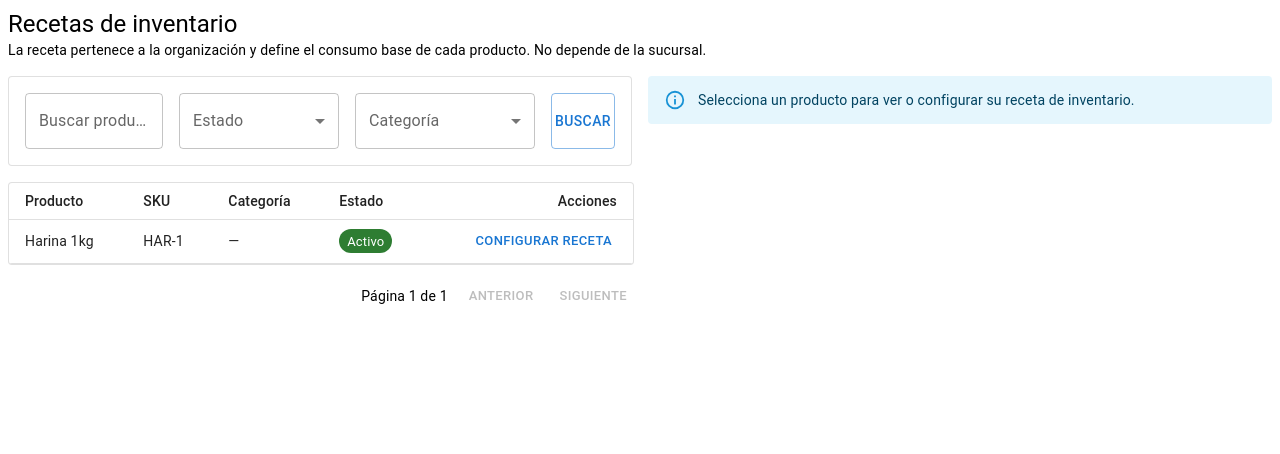
RecipesPage › keeps an existing inactive component visible
Expected: the text "Harina 1kg" is shown, [9,220,127,263]
Click the button "Configurar receta" at (544, 241), box [470,226,617,257]
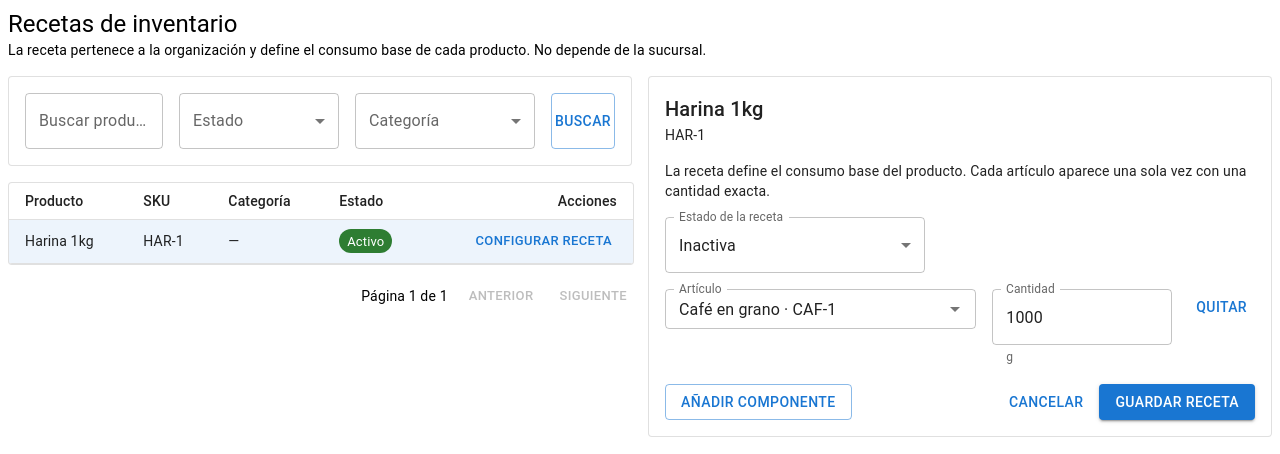
Expected: the dropdown labelled "Artículo" holds "Café en grano · CAF-1", [671,295,911,323]
Expected: the dropdown "Inactiva" is shown, [679,236,736,255]
